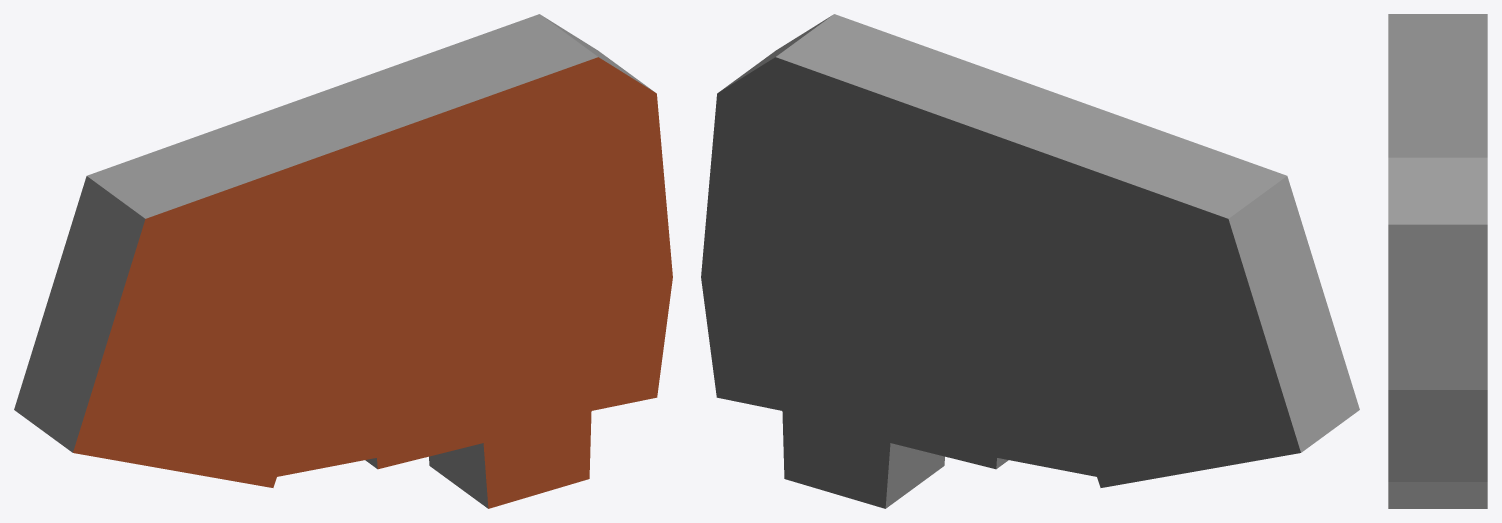
Rendered from construction_6056_assumed_A_Casa_h6m.obj.
3 renders of one model, left to right at view 1: azimuth 30°, elevation 25°; view 2: azimuth 150°, elevation 25°; view 3: azimuth 270°, elevation 25°, orthographic. The views are drawn at different scales.
Visible parts, largest first — view 1: construction_6056_assumed_A_Casa; view 2: construction_6056_assumed_A_Casa; view 3: construction_6056_assumed_A_Casa.
Part boxes in pixels (x1=…): construction_6056_assumed_A_Casa: x1=14, y1=14, x2=672, y2=508; construction_6056_assumed_A_Casa: x1=701, y1=14, x2=1359, y2=508; construction_6056_assumed_A_Casa: x1=1388, y1=14, x2=1487, y2=508.
Bounding box in the file's own units: 35.3 × 23.9 × 6.
